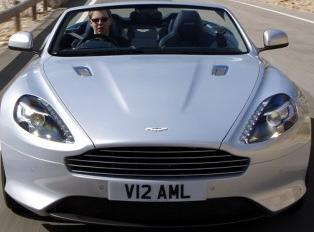front_view: (1, 94, 310, 220)
headlight: (14, 93, 76, 145)
